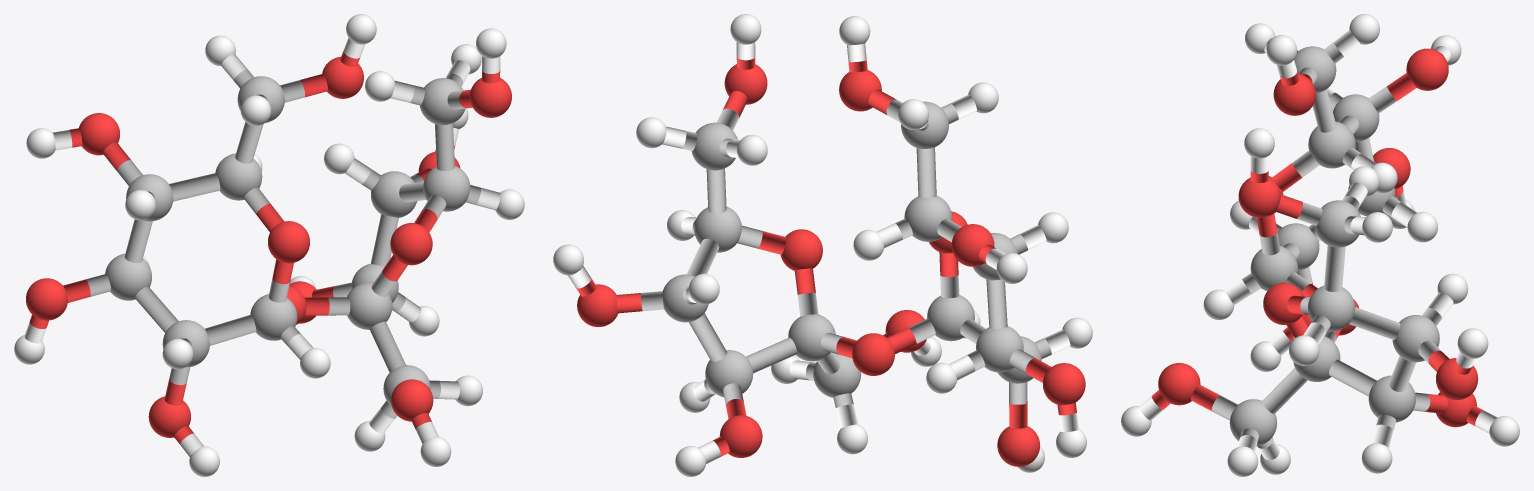
The model's file is sucrose_molecule.glb.
3 renders of one model, left to right at view 1: azimuth 30°, elevation 25°; view 2: azimuth 150°, elevation 25°; view 3: azimuth 270°, elevation 25°, orthographic.
Visible parts, largest first — view 1: sucrose_0; view 2: sucrose_0; view 3: sucrose_0.
Boxes of the visible parts, <box> form: sucrose_0: <box>14,14,524,476</box>; sucrose_0: <box>553,14,1092,476</box>; sucrose_0: <box>1121,14,1519,476</box>.
Size of the model in its own units: 9.28 by 7.9 by 6.58.
